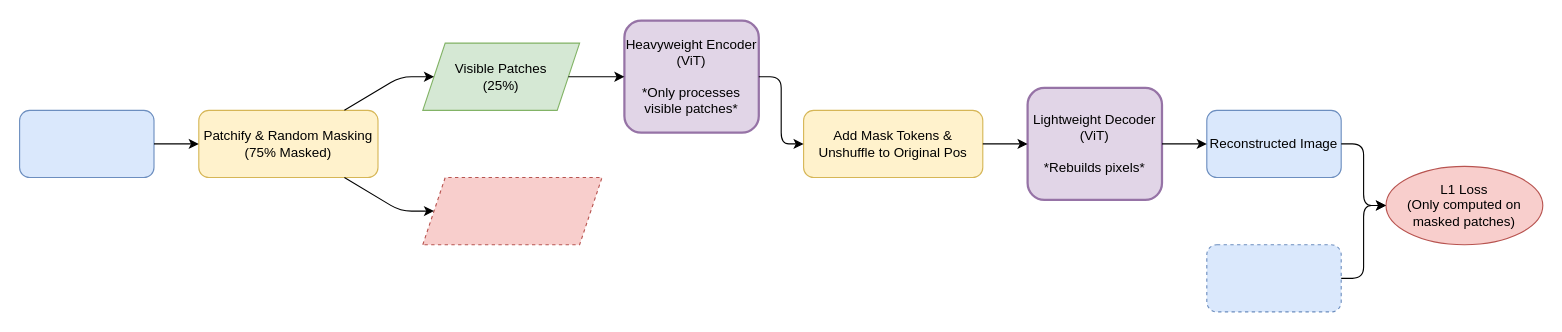
Image size: 1562x332. Some labels were removed from this diagram. The box of each missing label's shape, as (x1, y1, x2, y2) in pixels:
Input Image (e.g., 224x224): (18, 109, 154, 178)
Masked Patches (Discarded): (422, 176, 602, 245)
Original Image (Target): (1206, 244, 1341, 312)
